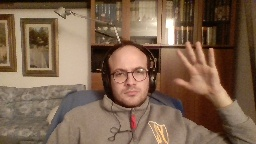Mano_aperta: (171, 39, 221, 96)
